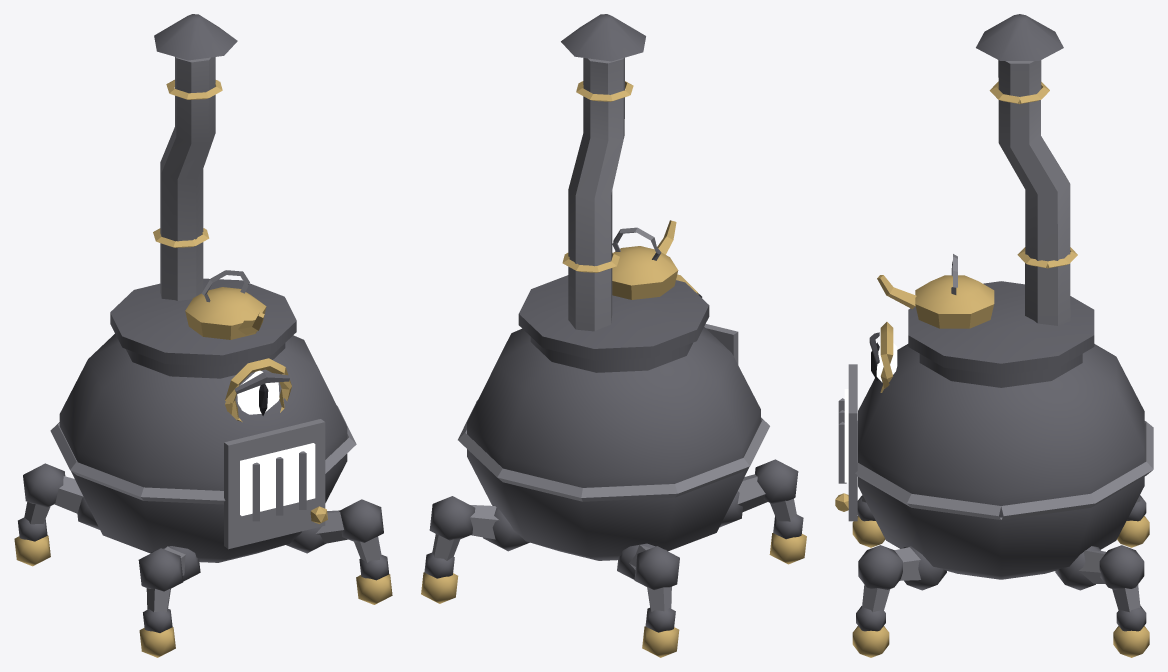
Rendered from lantern-hearth-lamp.glb.
The picture shows the model from 3 angles, left to right: view 1: azimuth 30°, elevation 25°; view 2: azimuth 150°, elevation 25°; view 3: azimuth 270°, elevation 25°; orthographic projection. The views are drawn at different scales.
Visible parts, largest first — view 1: lantern_hearth_lamp; view 2: lantern_hearth_lamp; view 3: lantern_hearth_lamp.
Boxes of the visible parts, x1,y1,x2,y2 form: lantern_hearth_lamp: (14,14,392,657); lantern_hearth_lamp: (421,14,806,657); lantern_hearth_lamp: (835,14,1153,657).
Bounding box in the file's own units: 0.7228 × 1.46 × 0.7187.
